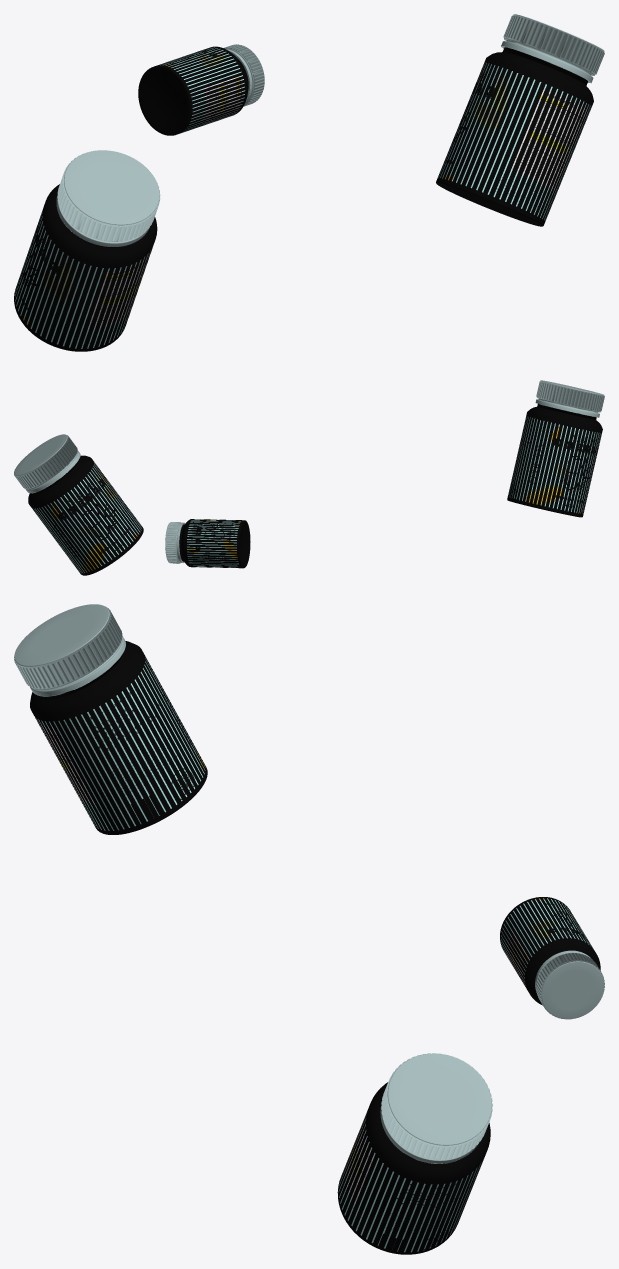
The model's file is Suppliment omega 3  - Copy.glb.
The picture shows the model from 3 angles, top to bottom: view 1: azimuth 30°, elevation 25°; view 2: azimuth 150°, elevation 25°; view 3: azimuth 270°, elevation 25°; orthographic projection. The views are drawn at different scales.
Visible parts, largest first — view 1: Bottle, Bottle.002, Lid .002, Bottle.001, wrap, wrap.002, Lid, wrap.001, Lid .001; view 2: Bottle.002, Bottle, Bottle.001, wrap.002, wrap, Lid, Lid .002, wrap.001, Lid .001; view 3: Bottle.002, Bottle, Lid, Lid .002, wrap.002, Bottle.001, Lid .001, wrap, wrap.001.
Boxes of the visible parts, x1,y1,x2,y2 form: Bottle: [436, 47, 593, 226]; Bottle.002: [14, 184, 157, 351]; Lid .002: [56, 150, 160, 246]; Bottle.001: [138, 46, 248, 135]; wrap: [438, 63, 591, 220]; wrap.002: [15, 211, 150, 348]; Lid: [501, 14, 604, 83]; wrap.001: [160, 47, 245, 131]; Lid .001: [223, 44, 264, 106]; Bottle.002: [507, 403, 602, 517]; Bottle: [28, 455, 143, 575]; Bottle.001: [179, 519, 250, 568]; wrap.002: [508, 416, 601, 513]; wrap: [32, 462, 141, 572]; Lid: [14, 434, 80, 493]; Lid .002: [535, 380, 604, 417]; wrap.001: [187, 519, 240, 568]; Lid .001: [165, 522, 185, 563]; Bottle.002: [30, 641, 207, 834]; Bottle: [337, 1082, 490, 1254]; Lid: [380, 1053, 492, 1163]; Lid .002: [14, 604, 125, 696]; wrap.002: [34, 658, 205, 830]; Bottle.001: [500, 897, 600, 1005]; Lid .001: [535, 950, 604, 1019]; wrap: [338, 1113, 482, 1252]; wrap.001: [501, 898, 592, 988].
Bounding box in the file's own units: 16.64 × 7 × 11.1.
Materials: 3 (1 with a texture image).
